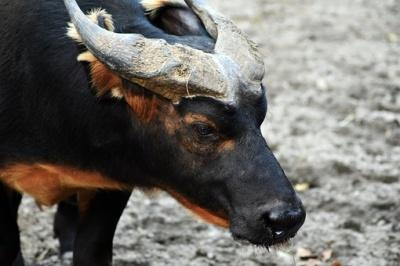buffalo: (0, 0, 306, 266)
